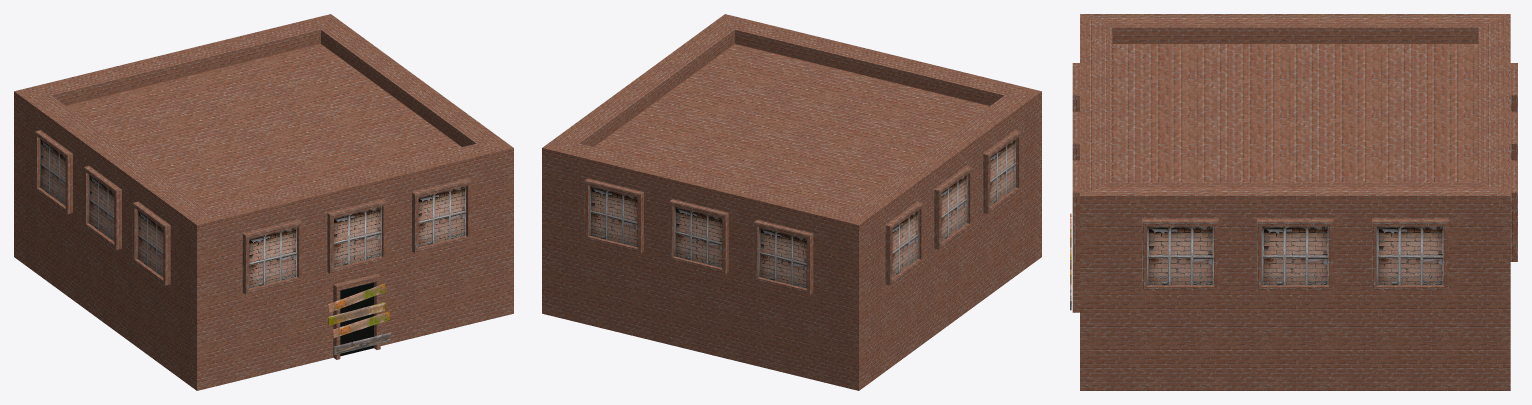
File: building_03.fbx
3 renders of one model, left to right at view 1: azimuth 30°, elevation 25°; view 2: azimuth 150°, elevation 25°; view 3: azimuth 270°, elevation 25°, orthographic. The views are drawn at different scales.
Parts seen in each view (by area): view 1: building_03; view 2: building_03; view 3: building_03.
Boxes of the visible parts, <box> form: building_03: <box>14,14,513,390</box>; building_03: <box>542,14,1041,390</box>; building_03: <box>1070,14,1517,390</box>.
Bounding box in the file's own units: 11.63 × 5.62 × 11.69.
